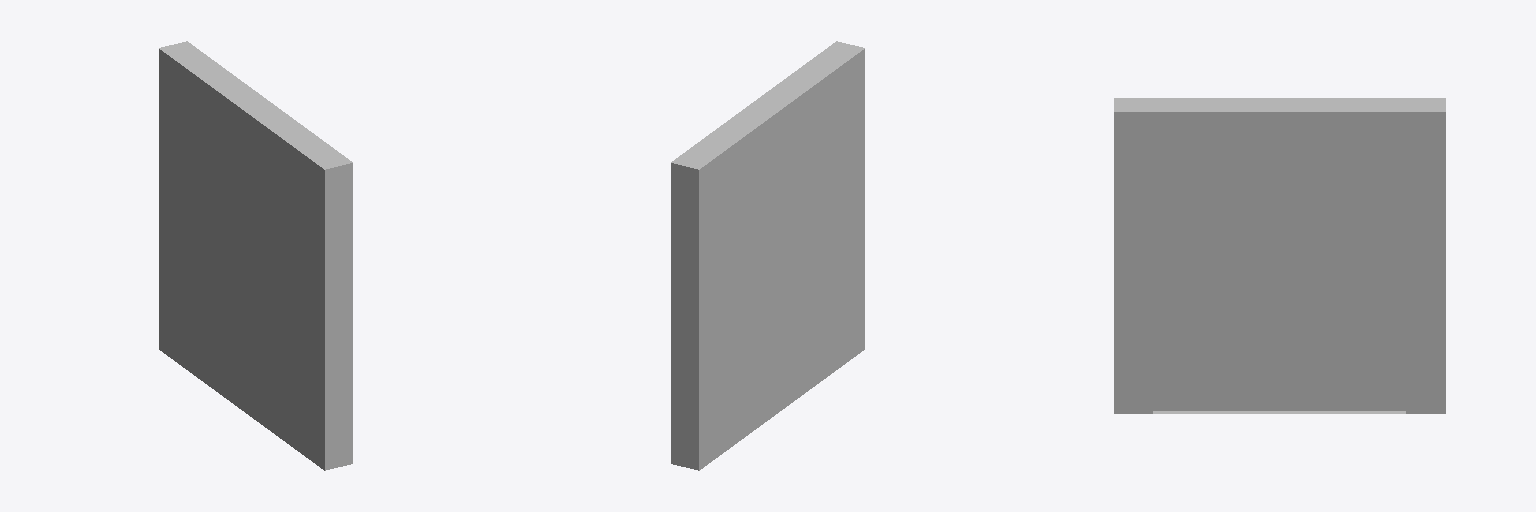
Rendered from door.obj.
The picture shows the model from 3 angles: view 1: azimuth 30°, elevation 25°; view 2: azimuth 150°, elevation 25°; view 3: azimuth 270°, elevation 25°; orthographic projection.
Visible parts, largest first — view 1: Cube; view 2: Cube; view 3: Cube.
Boxes of the visible parts, x1=… form: Cube: x1=159, y1=41, x2=352, y2=470; Cube: x1=671, y1=41, x2=864, y2=470; Cube: x1=1114, y1=98, x2=1445, y2=413.
Bounding box in the file's own units: 0.1087 × 1.09 × 1.09.